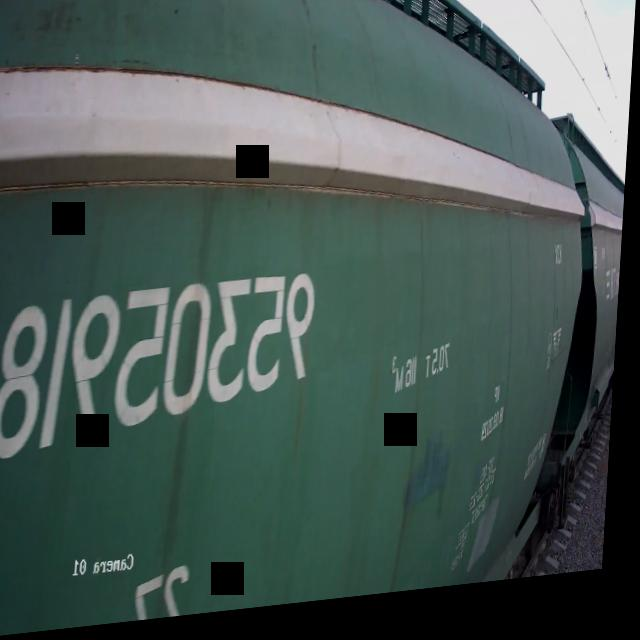hopper: (0, 0, 606, 640), (535, 106, 632, 510)
